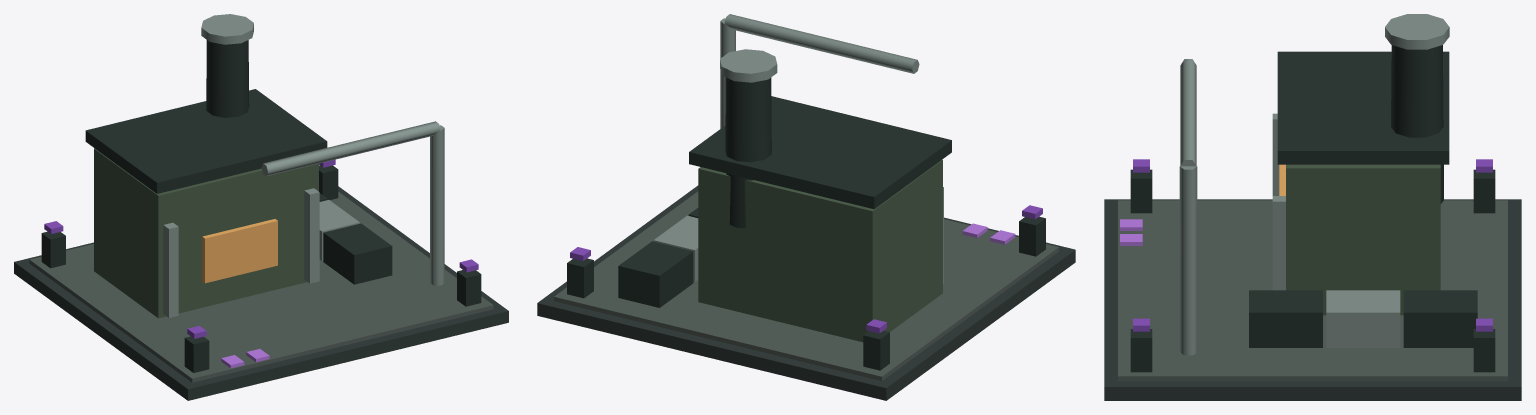
Rendered from highland_l02.glb.
The picture shows the model from 3 angles, left to right: view 1: azimuth 30°, elevation 25°; view 2: azimuth 150°, elevation 25°; view 3: azimuth 270°, elevation 25°; orthographic projection. The views are drawn at different scales.
Parts seen in each view (by area): view 1: highland_l02; view 2: highland_l02; view 3: highland_l02.
Boxes of the visible parts, x1,y1,x2,y2 form: highland_l02: (14, 14, 508, 400); highland_l02: (537, 14, 1075, 400); highland_l02: (1104, 14, 1521, 400).
Bounding box in the file's own units: 6.6 × 4.69 × 6.2.
